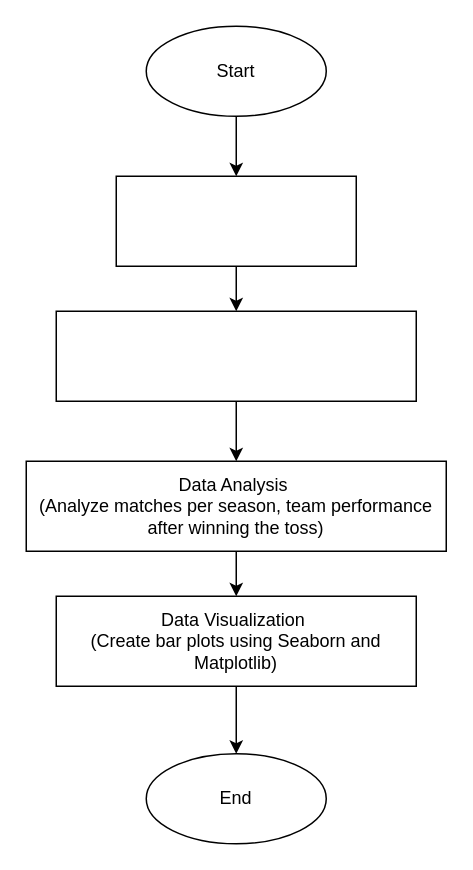
This 473x870 diagram has some shape labels left out. The box of each missing label's shape, as (x1, y1, x2, y2) in pixels:
Data Extraction (Load CSV files): (115, 175, 356, 266)
Data Transformation (Clean and transform the data): (55, 310, 416, 401)
